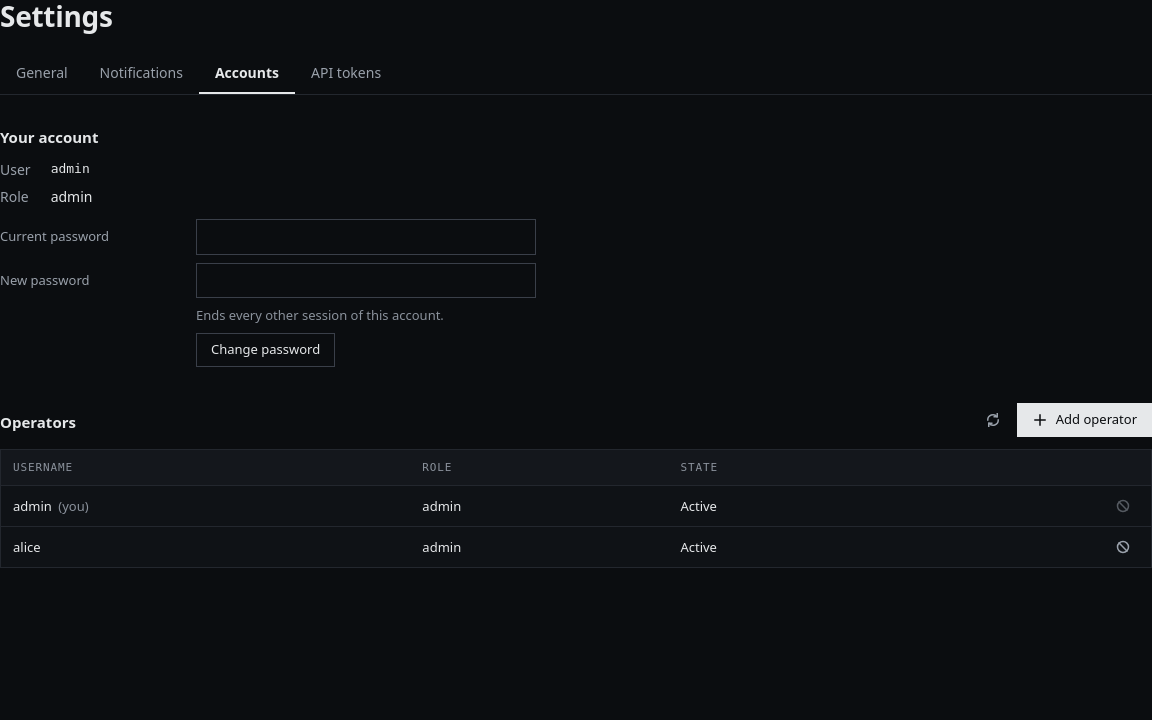
adds an operator in a dialog and clears a cancelled form
Expected: the text "alice" is shown, [1,527,410,568]
Click the button "Add operator".
click(1084, 420)  # box [1017,403,1151,437]
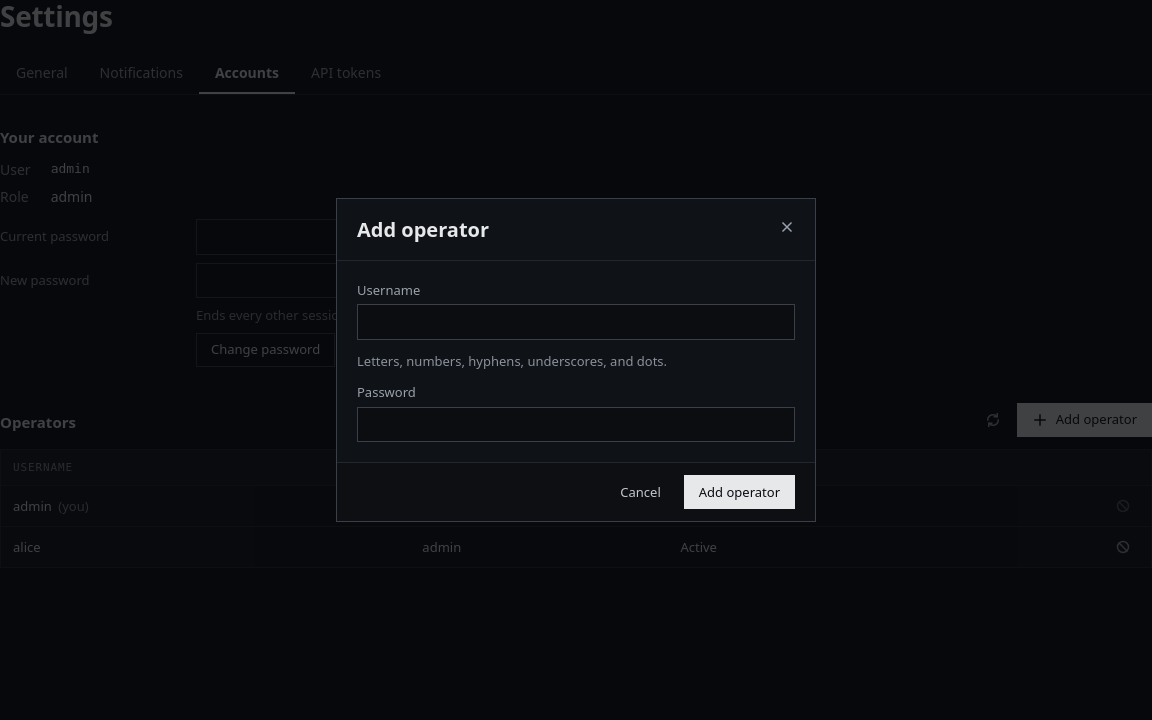
Type "discard" into the field labelled "Username".
click(576, 322); type("discard")  # box [357,304,795,340]
Click the button "Cancel".
click(641, 492)  # box [605,475,676,509]
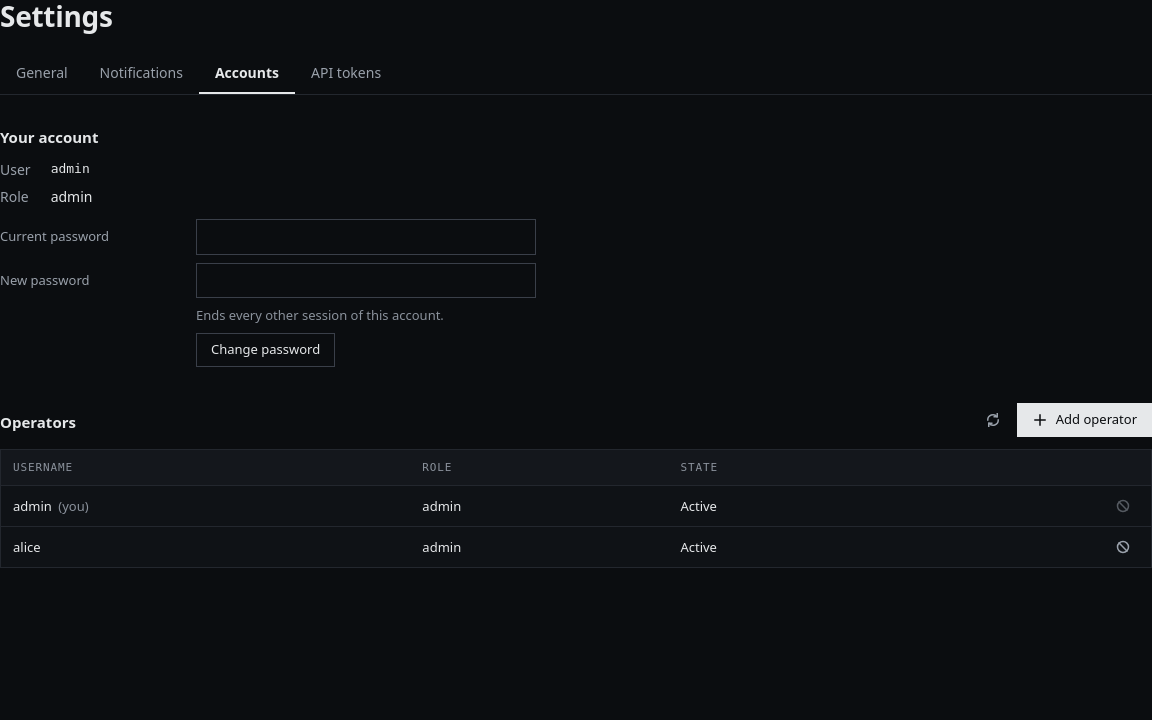
Click the button "Add operator".
click(1084, 420)  # box [1017,403,1151,437]
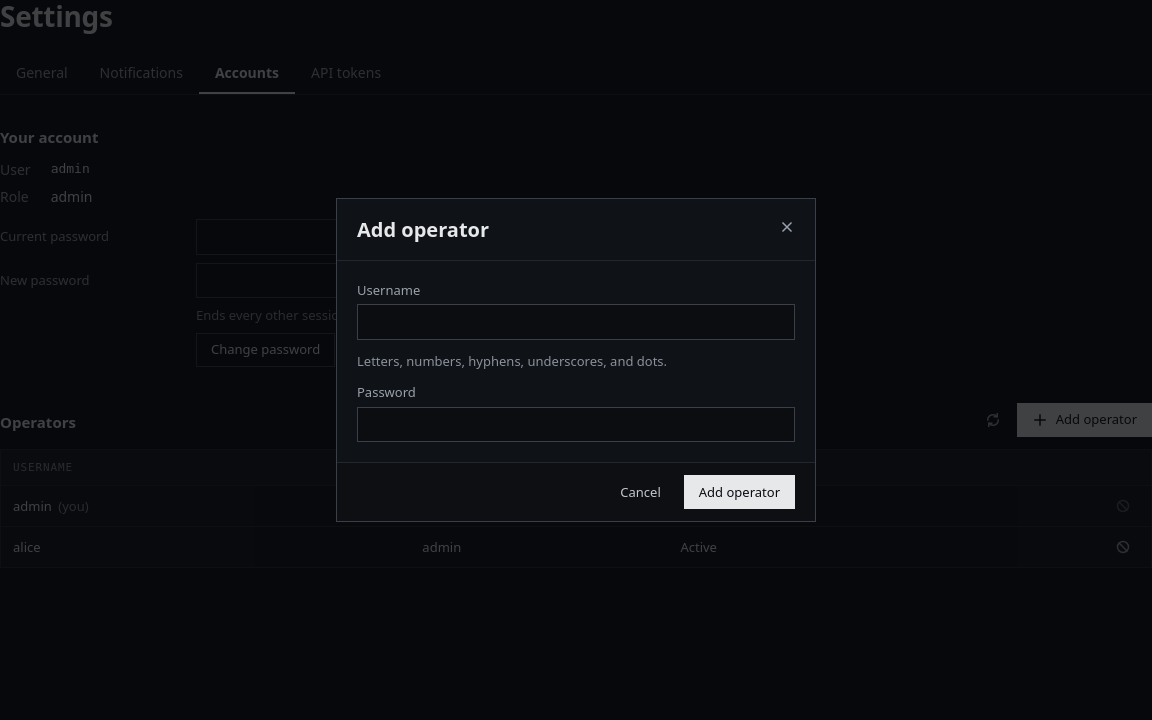
Result: the field labelled "Username" is empty
Type "Bob" into the field labelled "Username".
click(576, 322); type("Bob")  # box [357,304,795,340]
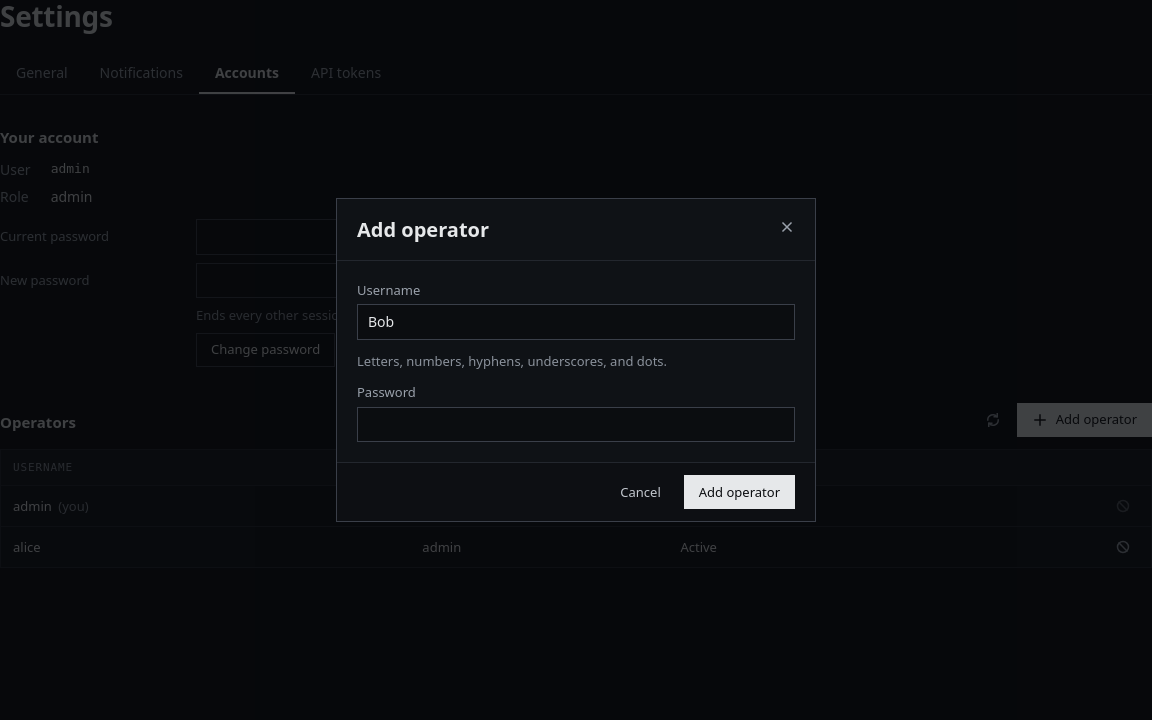
Type "secret-password" into the password field labelled "Password".
click(576, 425); type("secret-password")  # box [357,407,795,442]
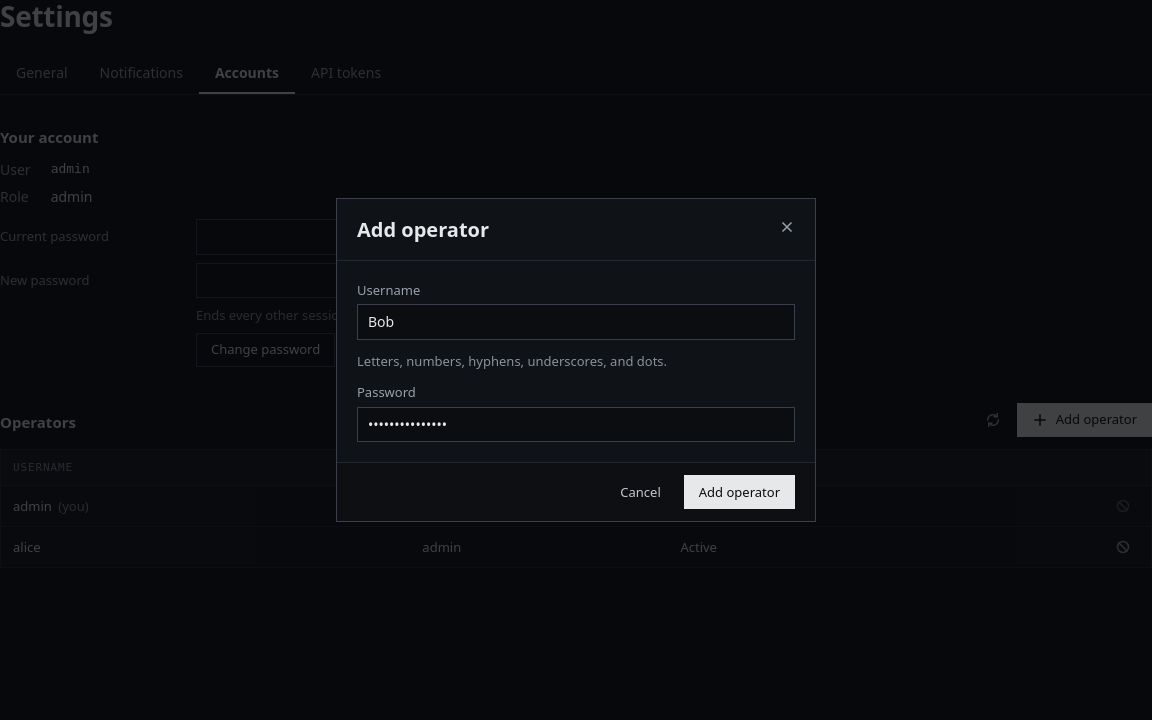
Click the button "Add operator".
click(739, 492)  # box [684,475,795,509]
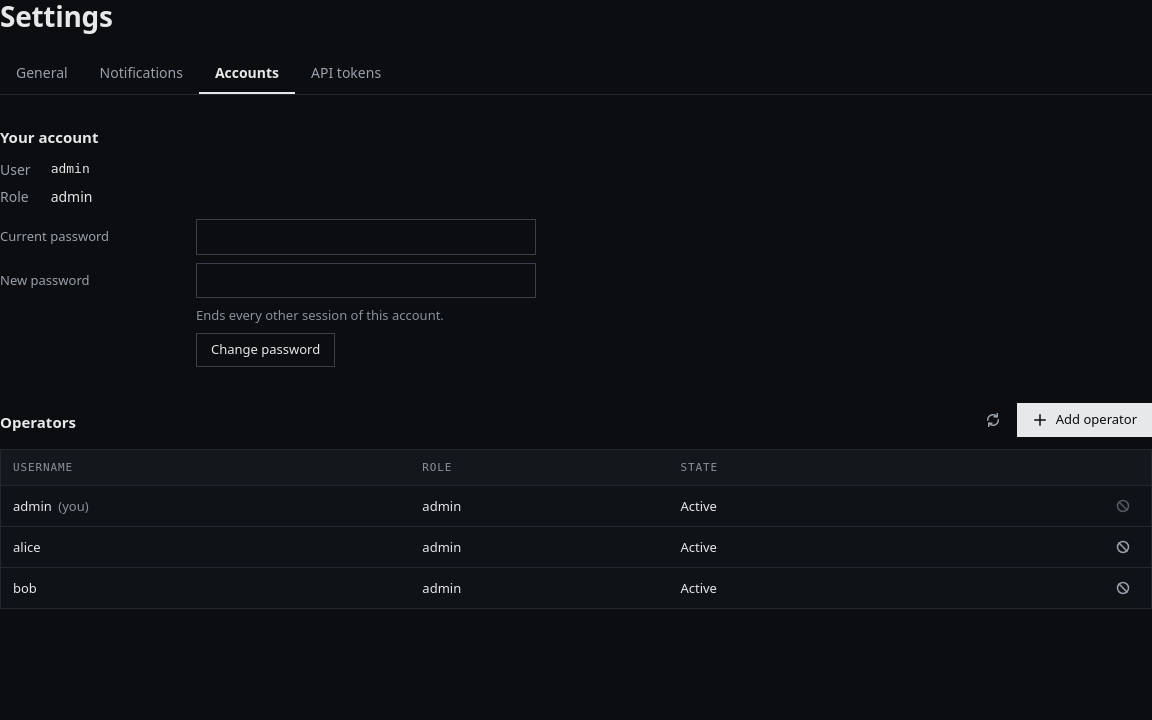
Result: the text "bob" is shown at [1,568,410,608]
Result: the dialog is gone
